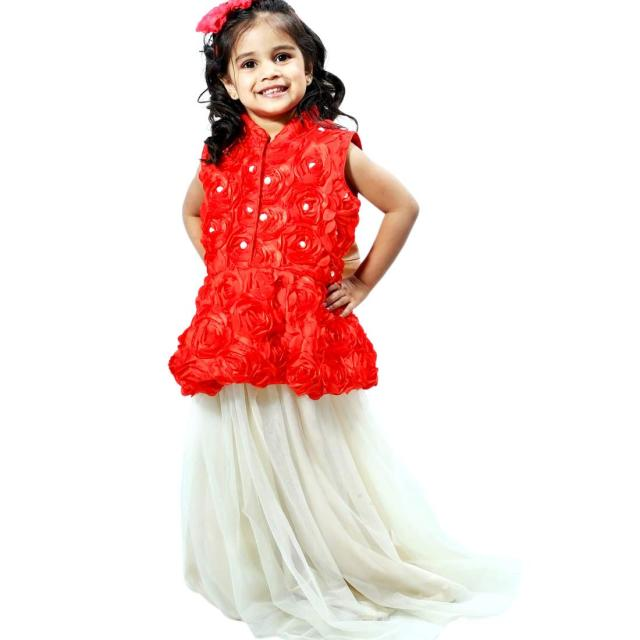child: (155, 0, 465, 640)
